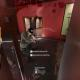Character: (20, 28, 40, 62), (11, 44, 38, 62)
Head: (28, 28, 34, 34), (11, 45, 14, 49)
